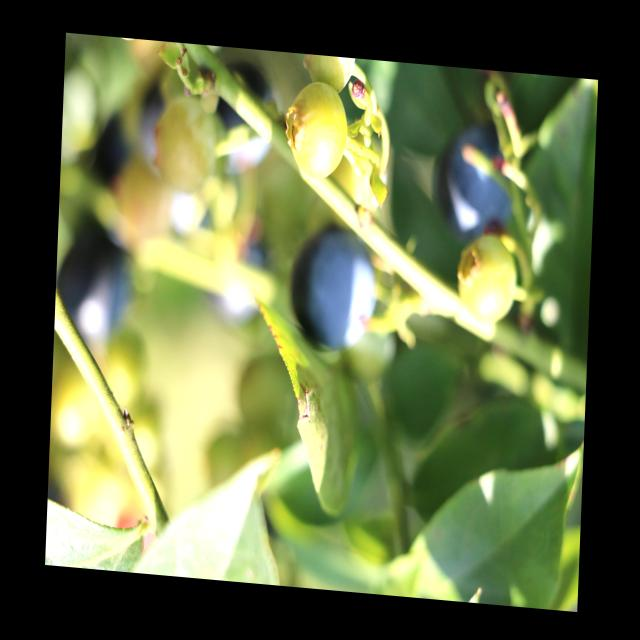blueberry: (283, 213, 381, 361), (426, 114, 521, 251), (56, 216, 136, 354), (194, 55, 274, 185), (206, 223, 273, 331), (133, 81, 190, 179)
blueberry-unripe: (286, 78, 350, 184), (456, 232, 520, 330), (300, 53, 358, 94)
